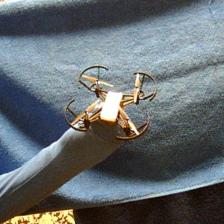drone: (64, 65, 158, 140)
